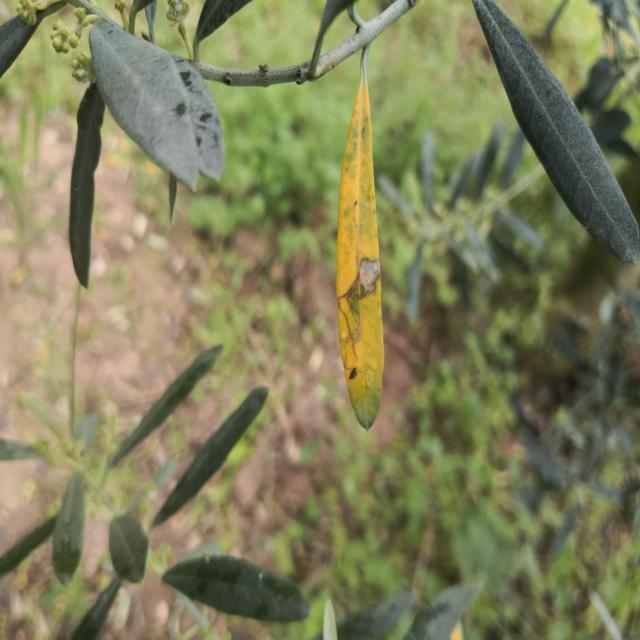OlivePeacockSpot: (336, 48, 384, 430)
